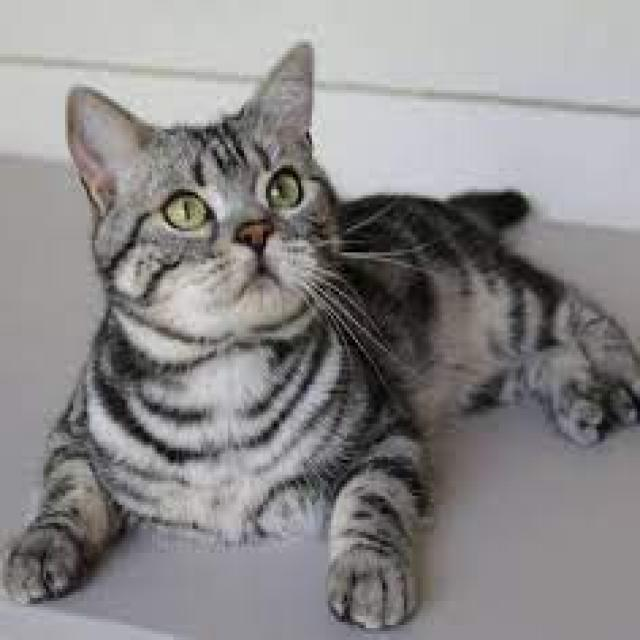cat-face: (66, 62, 417, 367)
